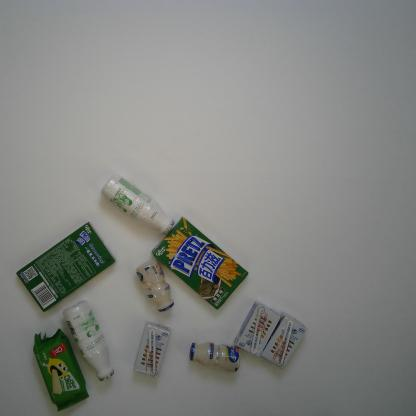Dessert: (151, 216, 249, 310), (16, 222, 115, 312), (33, 328, 89, 413)
Milk: (100, 173, 176, 235), (62, 300, 115, 382), (234, 301, 282, 358), (261, 314, 308, 370), (132, 322, 172, 378), (136, 258, 175, 312), (189, 341, 242, 373)
